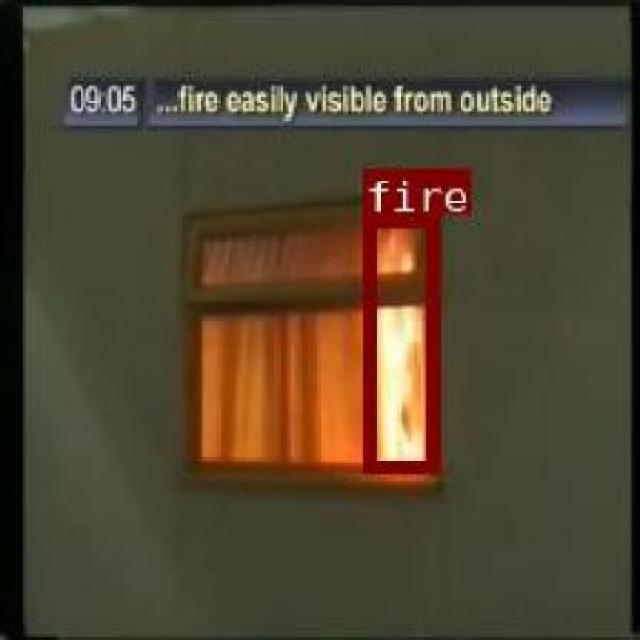Fire: (362, 212, 436, 472)
